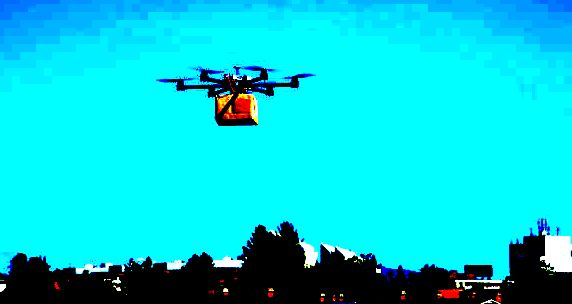Drone: (151, 60, 316, 103)
